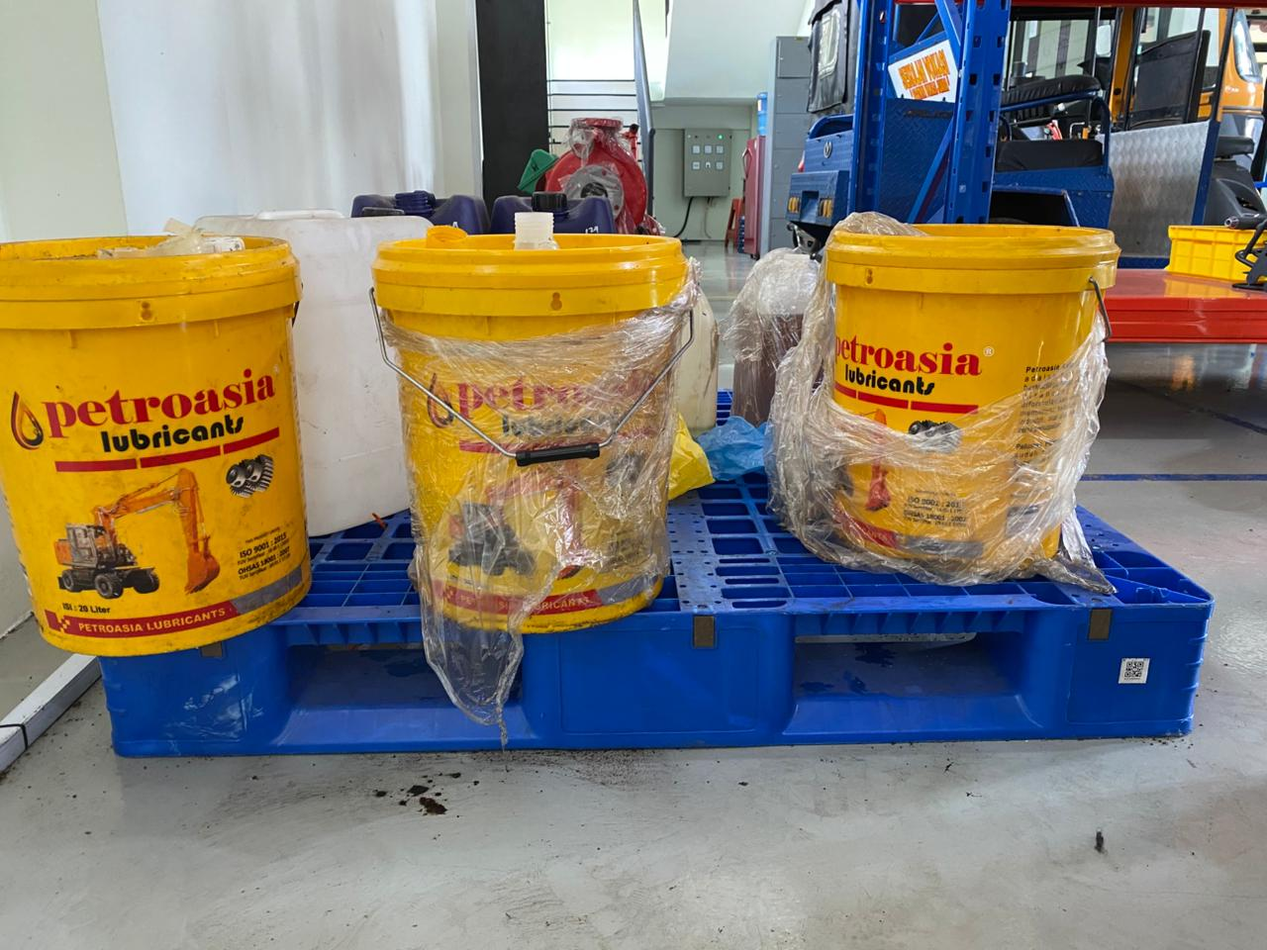block: (527, 611, 793, 747), (97, 622, 283, 756), (1050, 608, 1212, 741)
